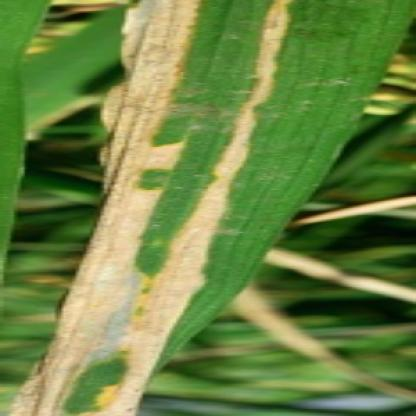Blight: (1, 1, 316, 416)
